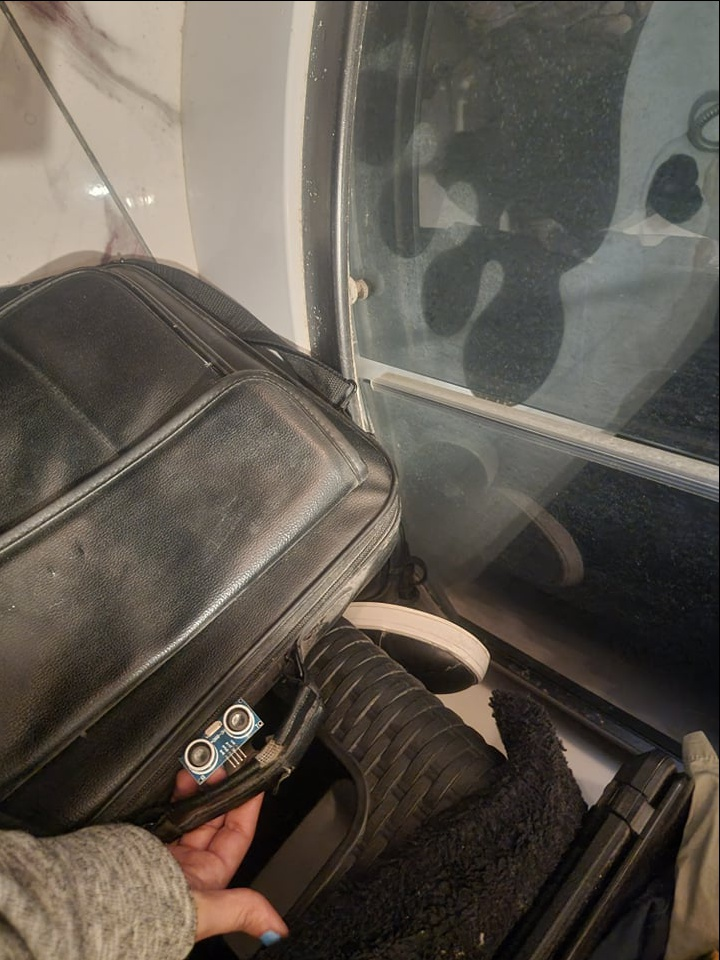SENSOR: (180, 698, 266, 788)
